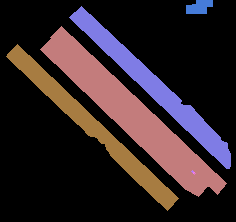parkingspot: (50, 26, 226, 194), (6, 44, 178, 210), (40, 38, 207, 196), (69, 6, 230, 168), (186, 0, 212, 13)
